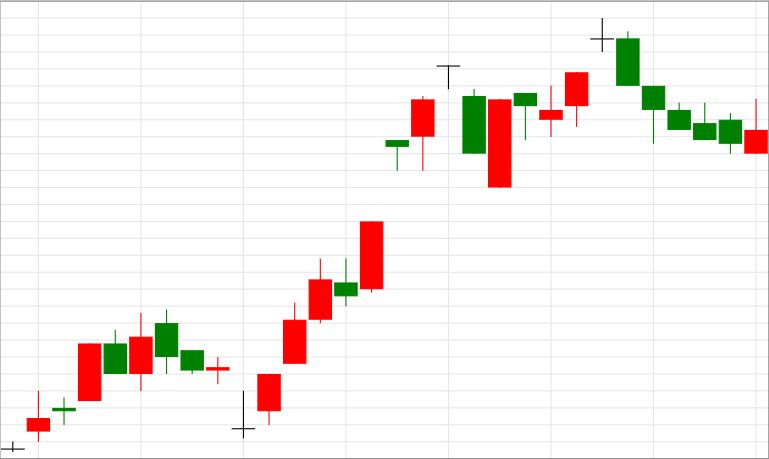evening_star_fall: (258, 64, 486, 425), (488, 18, 639, 188)
three_white_soldiers_rise: (155, 258, 333, 439)
